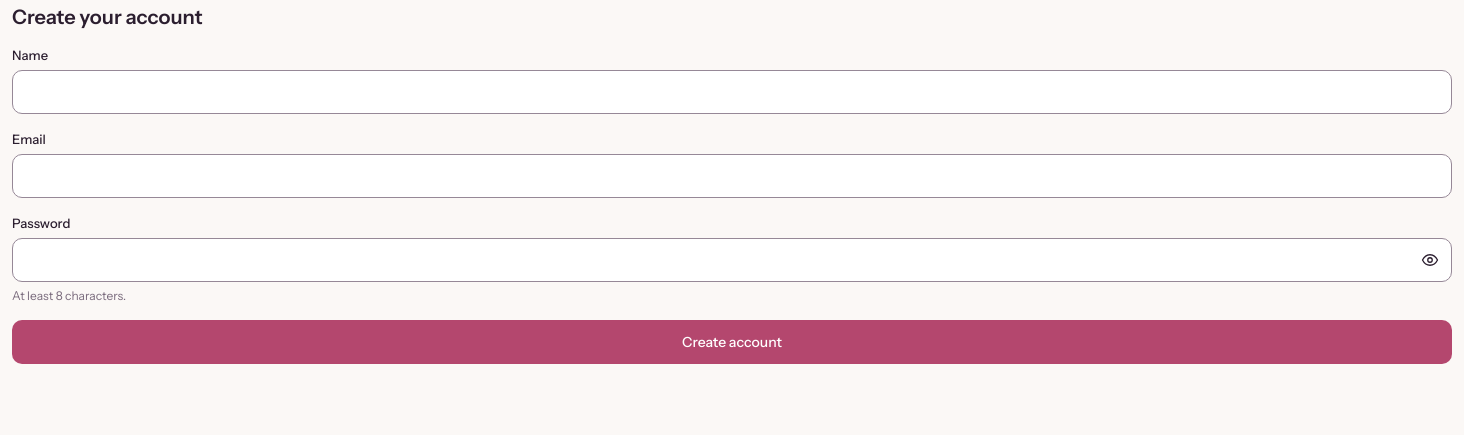
Test case: error messages › PASSWORD_TOO_LONG
The width and height of the screenshot is (1464, 435).
Type "Ana" into the field labelled "Name". click: (732, 92)
box: [12,70,1452,114]
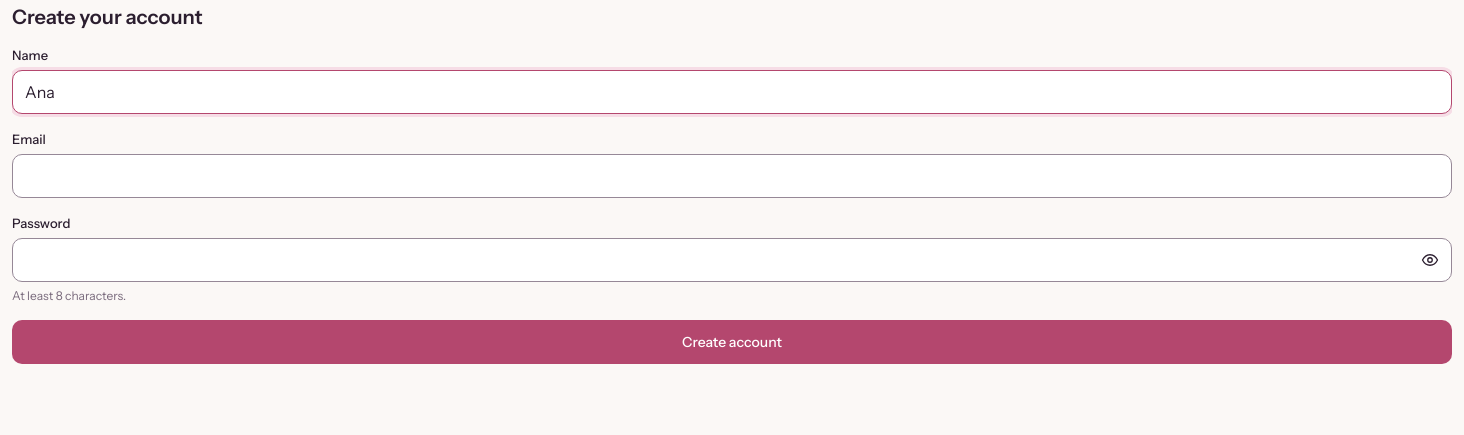
Type "ana@example.com" into the field labelled "Email". click: (732, 176)
box: [12,154,1452,198]
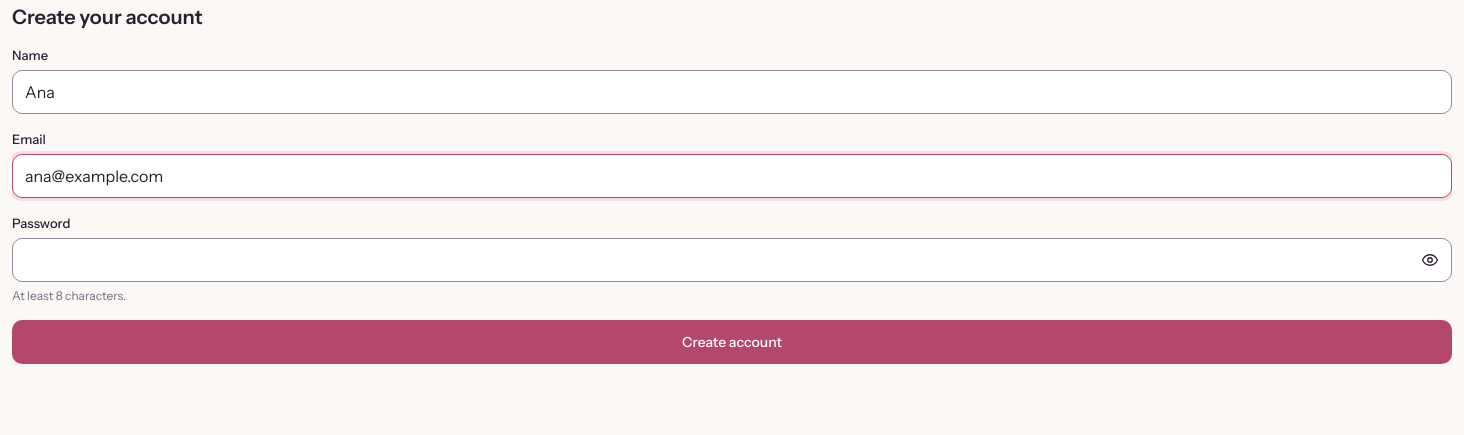
Type "pas-de-deux" into the password field labelled "Password". click: (732, 260)
box: [12,238,1452,282]
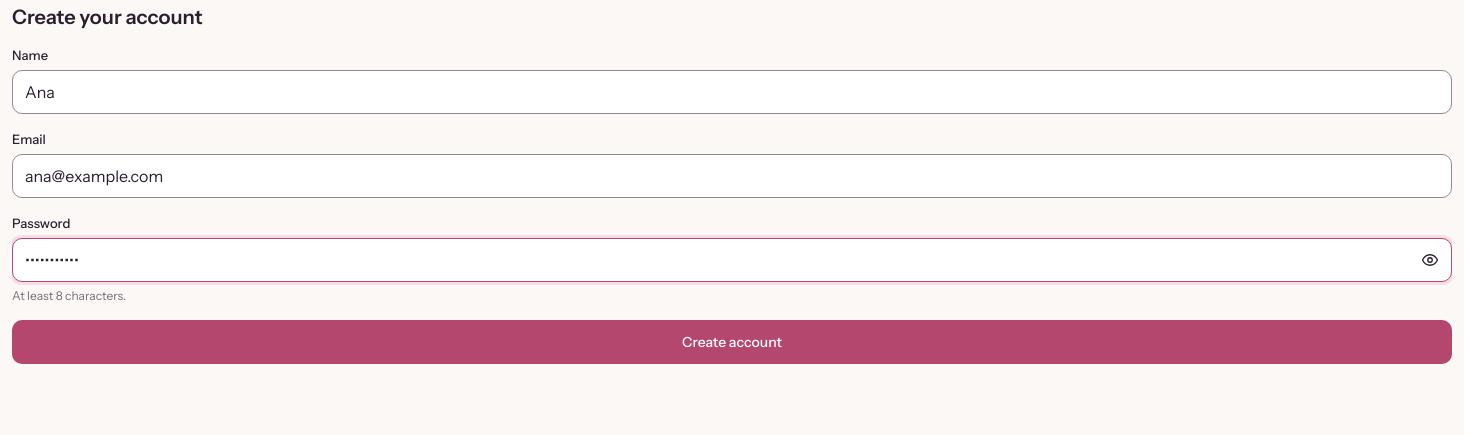
Click the button "Create account". click: (732, 342)
box: [12,320,1452,364]
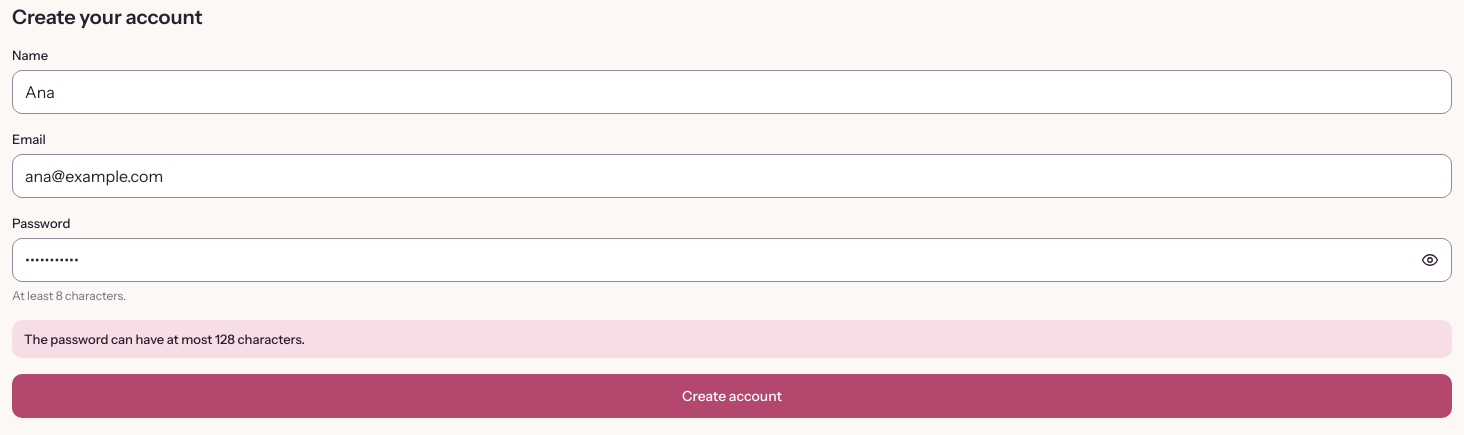
Now the message reads "The password can have at most 128 characters.", box [24,331,305,347]
